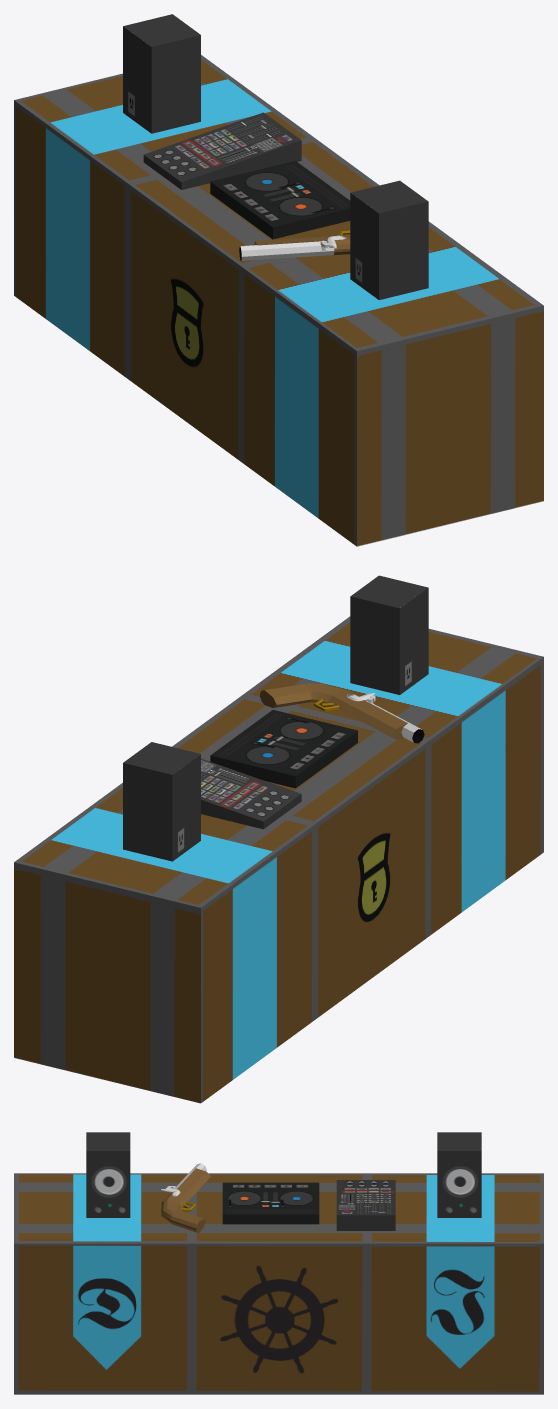
Rendered from DJBooth.fbx.
3 renders of one model, top to bottom at view 1: azimuth 30°, elevation 25°; view 2: azimuth 150°, elevation 25°; view 3: azimuth 270°, elevation 25°, orthographic. The views are drawn at different scales.
Visible parts, largest first — view 1: pCube1, pCube6, pCube7, pCube9, pCube2, pCylinder9; view 2: pCube1, pCube6, pCube7, pCube9, pCube2, pCylinder9; view 3: pCube1, pCube9, pCube7, pCube6, pCube2, pCylinder9.
Part boxes in pixels (x1,y1,x2,y2): pCube1: (14, 55, 543, 546); pCube6: (350, 180, 428, 299); pCube7: (123, 14, 200, 133); pCube9: (210, 161, 350, 239); pCube2: (143, 112, 301, 189); pCylinder9: (239, 230, 350, 260); pCube1: (14, 616, 543, 1103); pCube6: (350, 575, 428, 694); pCube7: (123, 742, 200, 861); pCube9: (210, 710, 357, 788); pCube2: (201, 758, 301, 829); pCylinder9: (260, 683, 424, 743); pCube1: (14, 1173, 543, 1394); pCube9: (222, 1182, 319, 1224); pCube7: (437, 1132, 481, 1217); pCube6: (86, 1132, 130, 1217); pCube2: (336, 1180, 395, 1230); pCylinder9: (161, 1163, 210, 1232).
Bounding box in the file's own units: 879 × 1269 × 2796.
8 materials, 4 textured.
